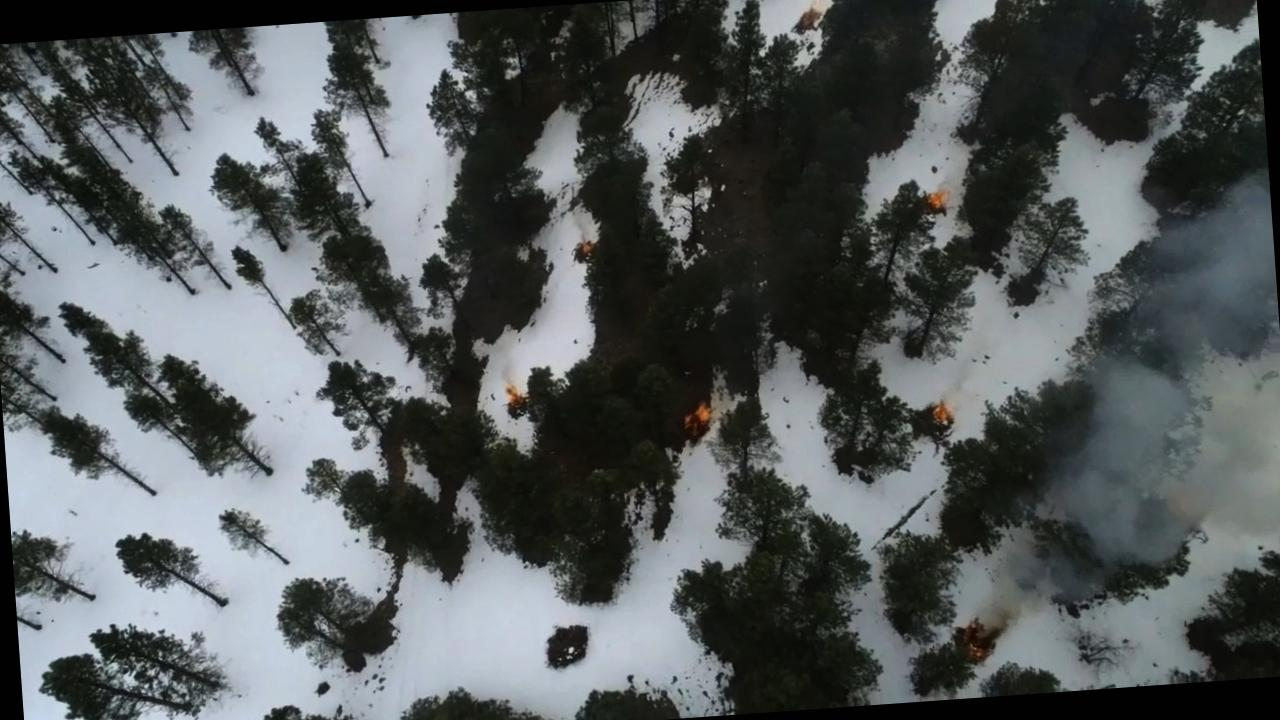fire: (958, 618, 1008, 670), (674, 393, 718, 450), (925, 399, 958, 435), (924, 178, 954, 212)
smoke: (1035, 374, 1280, 588), (1075, 173, 1280, 381)
